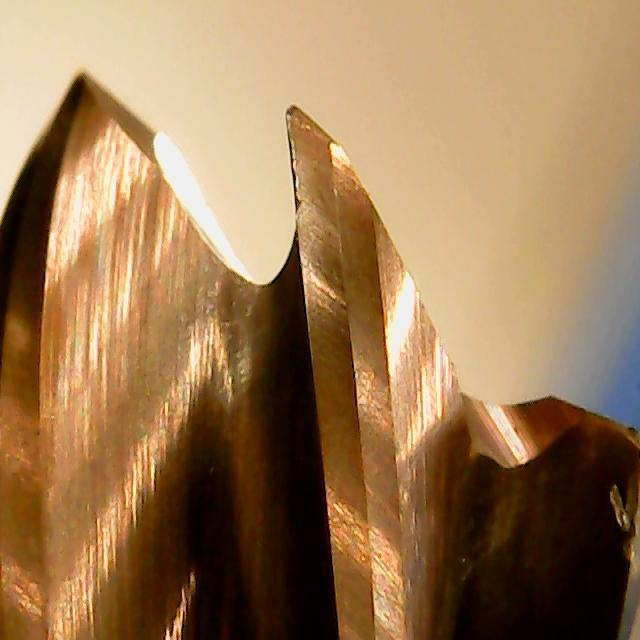Tool-wear-class-1: (277, 105, 387, 405)
